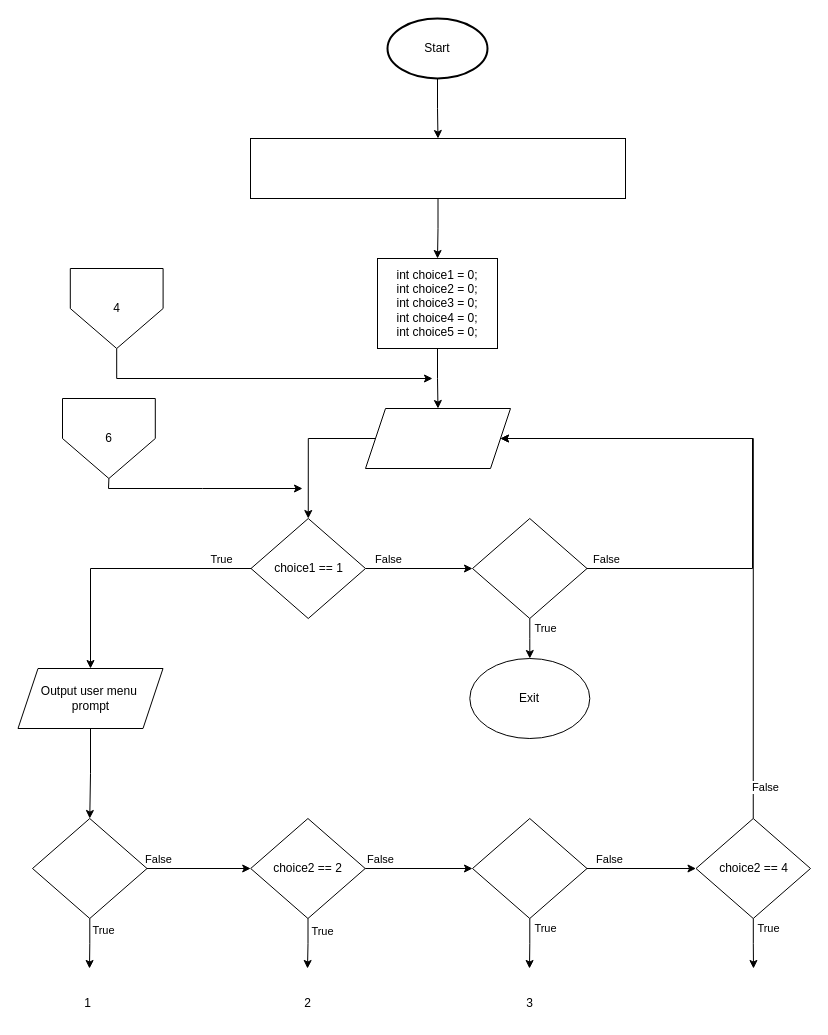
This 828x1035 diagram has some shape labels left out. Here are the shapes that lost their labels. From the top down, the centre of each, then its label:
At pixel 438 168: "Initialize Vector for object Embassy, Doctor and Jemaah".
At pixel 437 438: "Output main menu prompt".
At pixel 529 568: "choice1 == 2".
At pixel 89 868: "choice2 == 1".
At pixel 529 868: "choice2 == 3".
